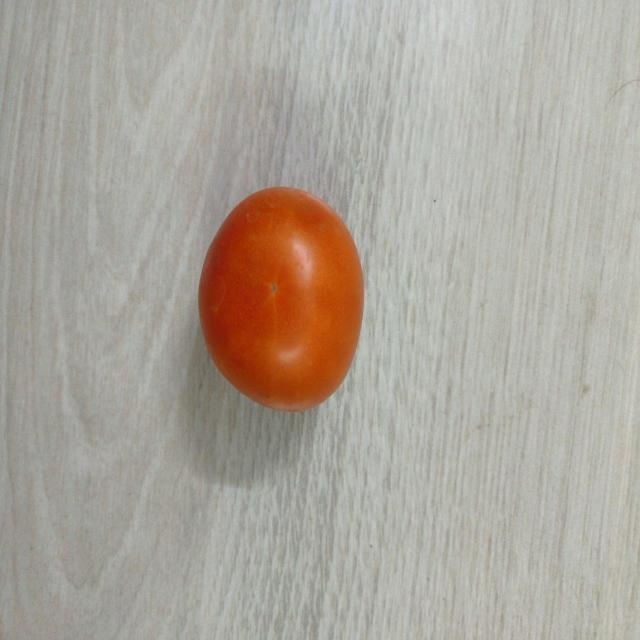Tomato: (196, 184, 365, 416)
